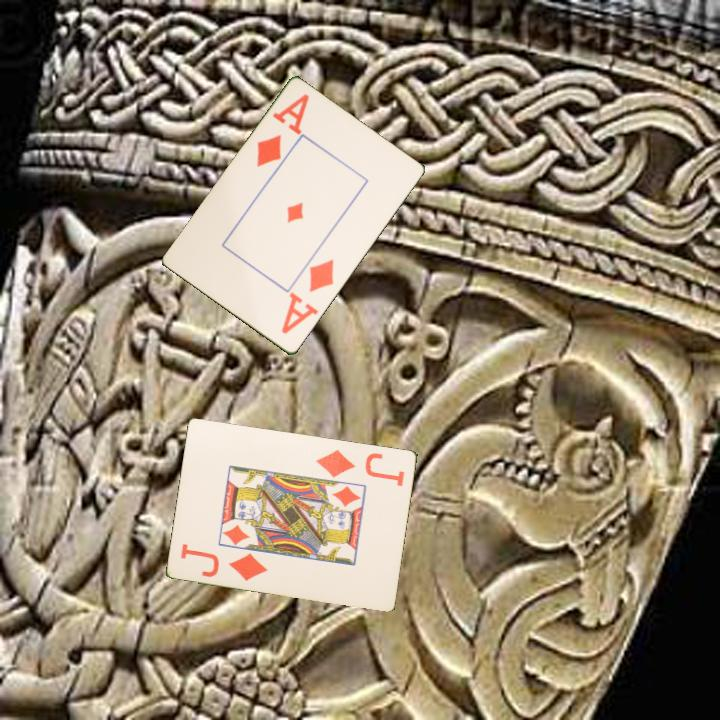Ad: (278, 256, 337, 337), (253, 91, 312, 171)
Jd: (177, 539, 271, 584), (313, 446, 408, 489)
